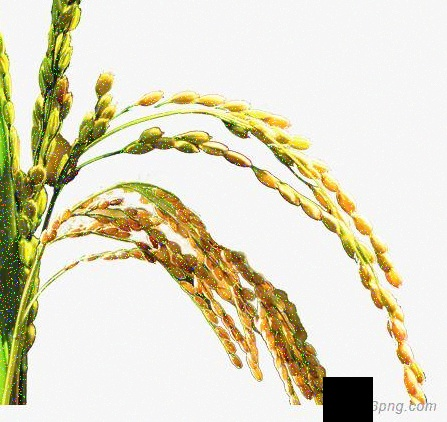rice: (81, 69, 428, 398), (52, 181, 331, 407)
